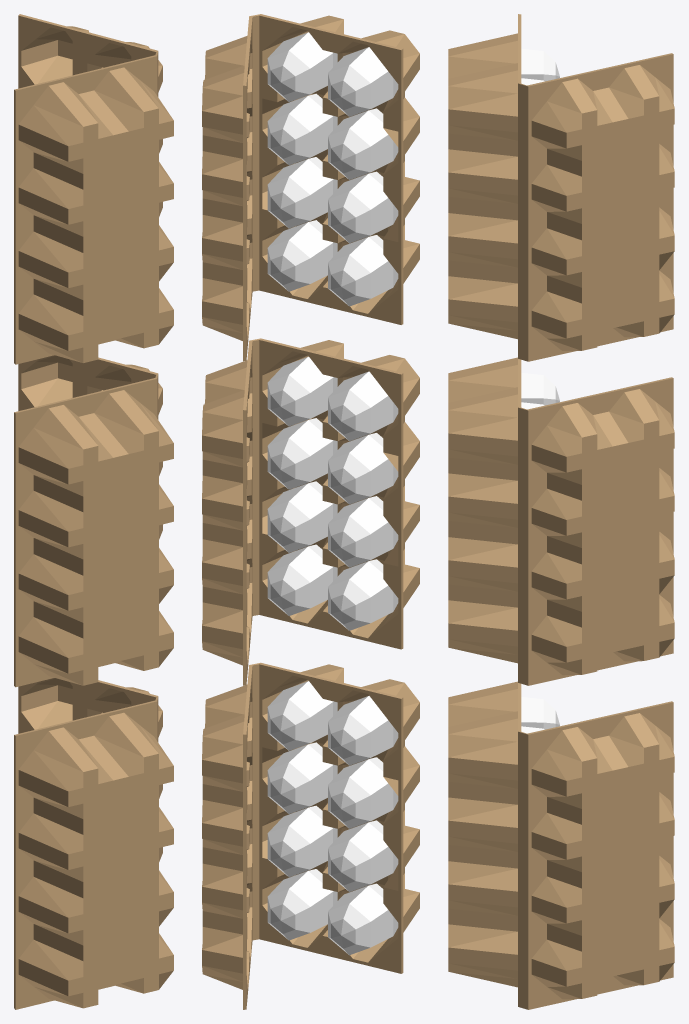
Rendered from Eggs Shelf.fbx.
3 views of the same model, side by side, from view 1: azimuth 30°, elevation 25°; view 2: azimuth 150°, elevation 25°; view 3: azimuth 270°, elevation 25° (orthographic).
Parts seen in each view (by area): view 1: Cardboard; view 2: Cardboard; view 3: Cardboard.
Boxes of the visible parts, x1,y1,x2,y2 form: Cardboard: [14, 14, 173, 1009]; Cardboard: [202, 14, 419, 1009]; Cardboard: [448, 14, 674, 1009].
Bounding box in the file's own units: 36.93 × 189 × 42.05.
